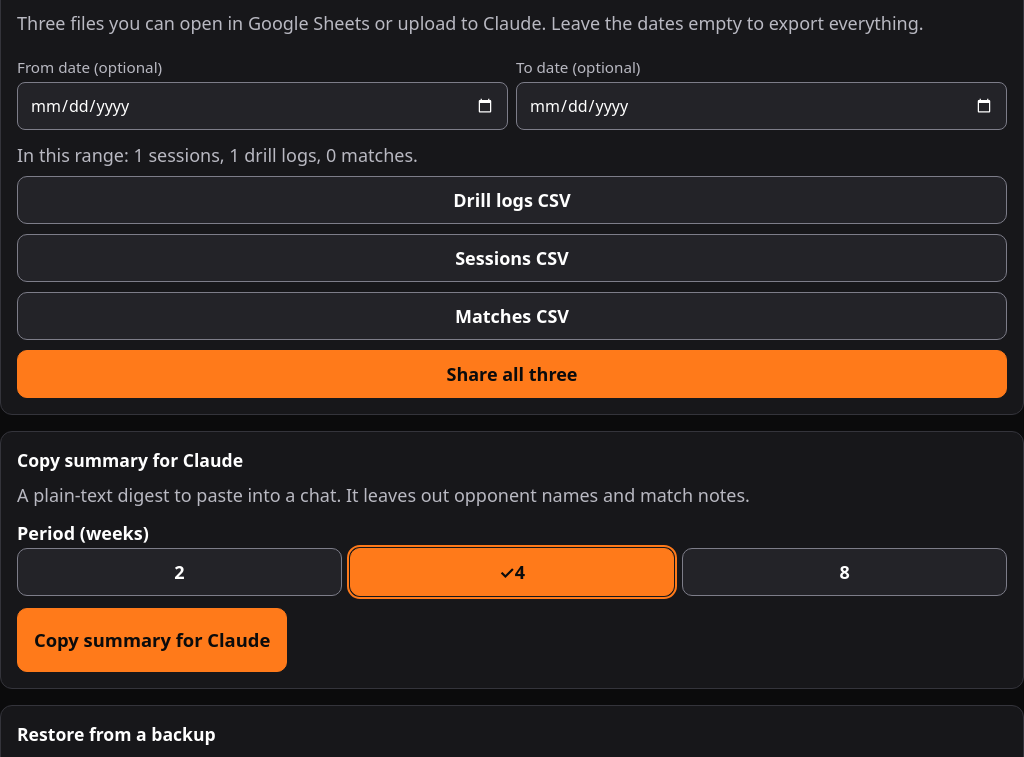
Test: Data screen: status, export and summary › "Share all three" shares once where files are supported, otherwise downloads three
The image size is (1024, 757).
(page scrolled)
Click the button "Share all three".
click(512, 374)  # box [17,350,1007,398]
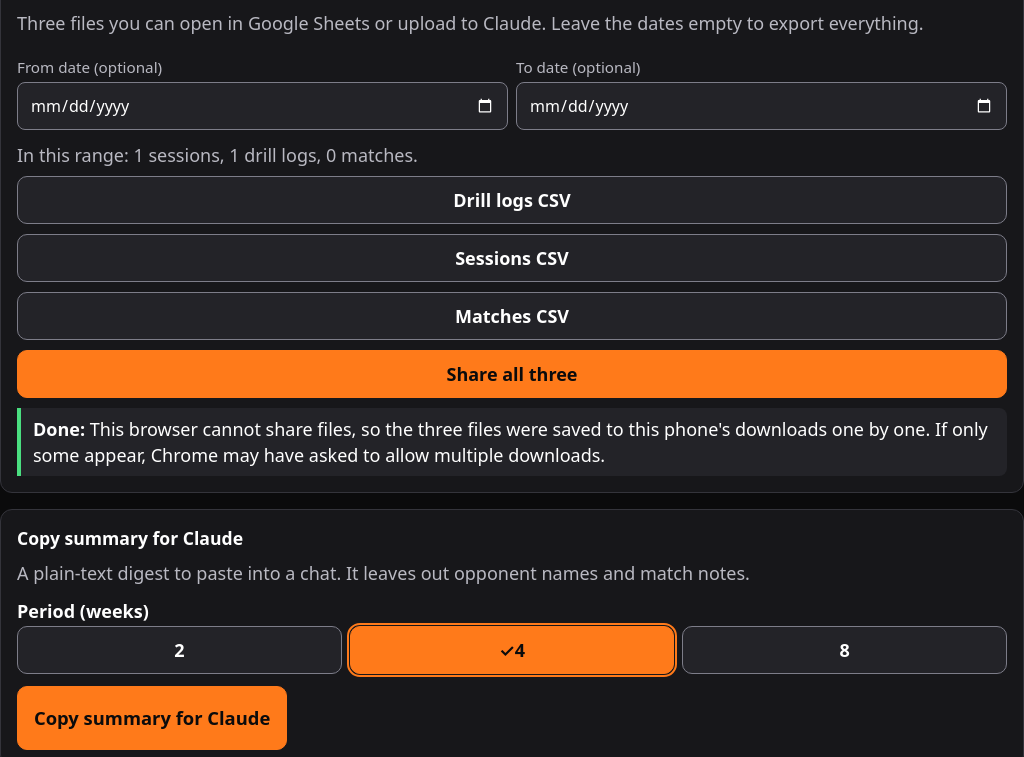
Now the text "saved to this phone's downloads one by one" is shown, box [33,417,988,467]
Click the button "Share all three".
click(512, 374)  # box [17,350,1007,398]
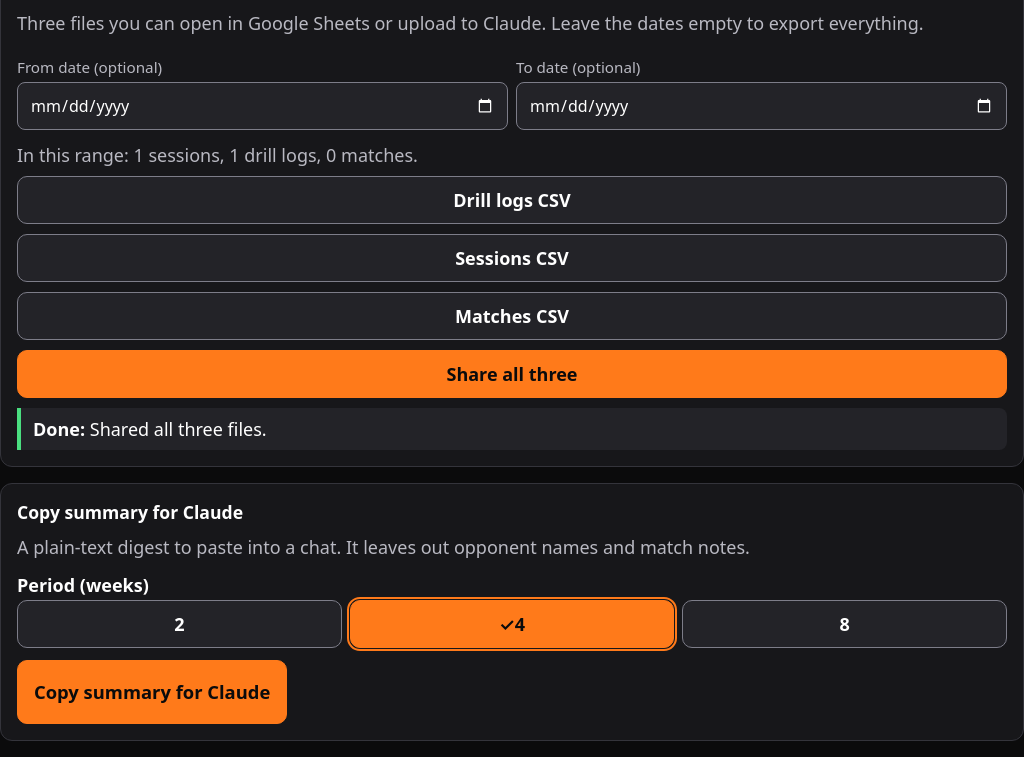
Now the text "Shared all three files." is shown, box [90,417,267,441]
